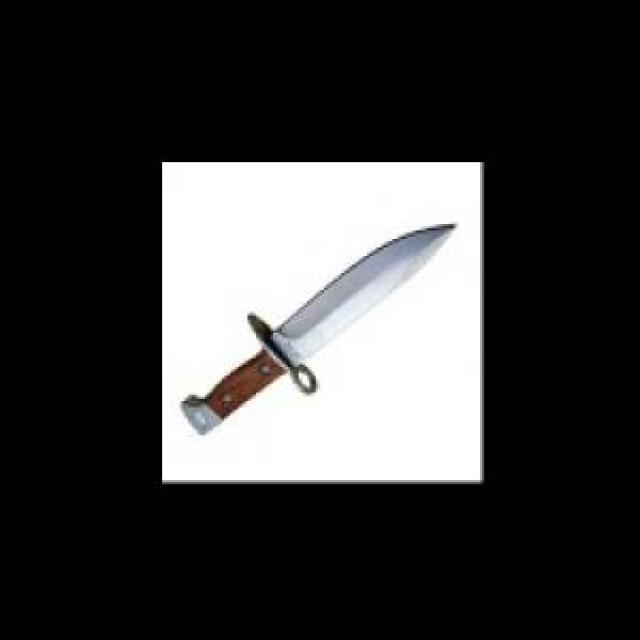knife: (182, 220, 456, 439)
